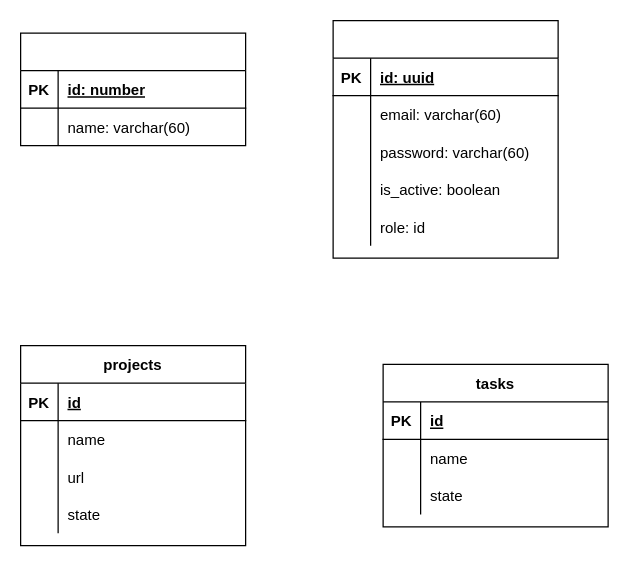
This 629x566 diagram has some shape labels left out. The box of each missing label's shape, as (x1, y1, x2, y2) in pixels:
roles: (19, 32, 246, 146)
users: (332, 19, 558, 258)
